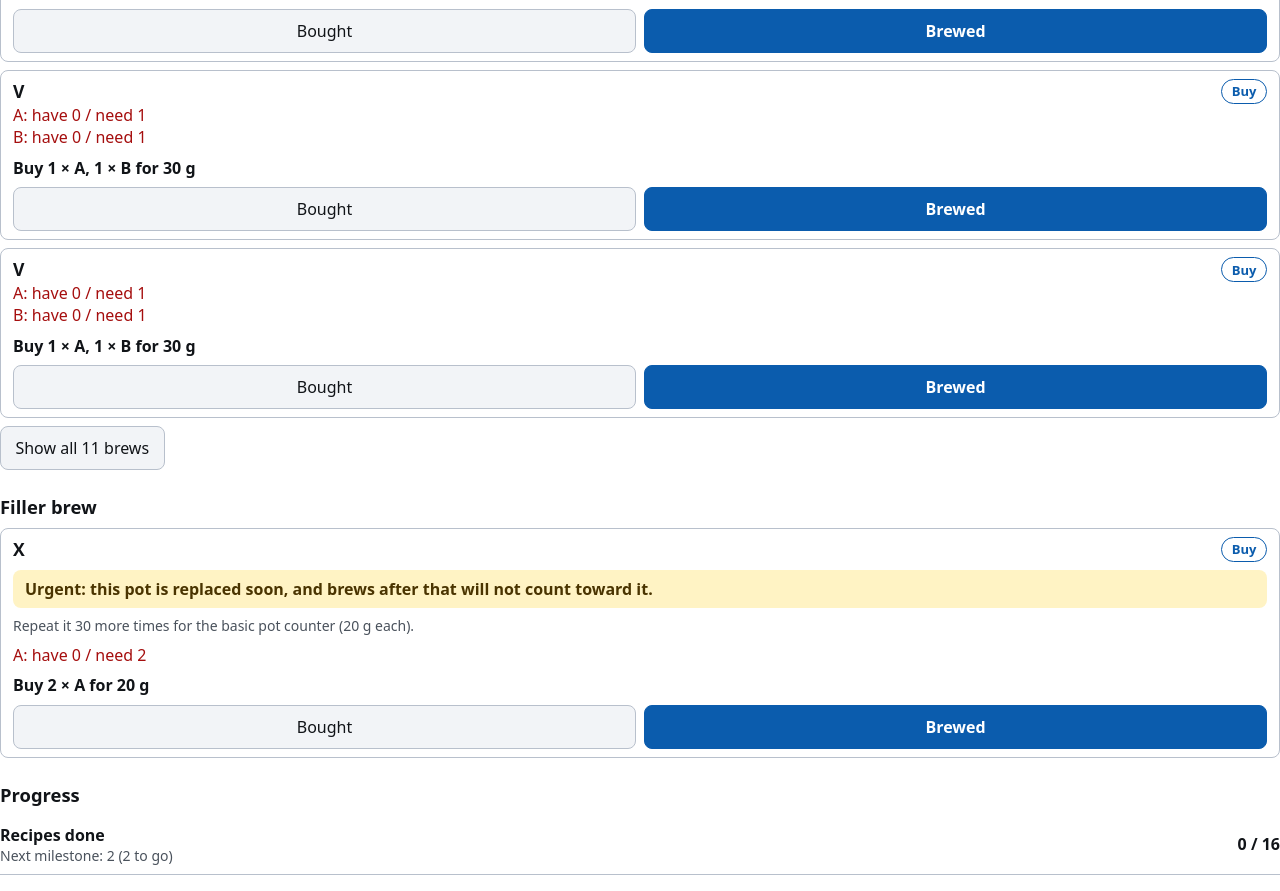
Next › shows the first few entries and the rest on request
(page scrolled)
Click the button "Show all 11 brews".
click(82, 448)  # box [0, 426, 164, 470]
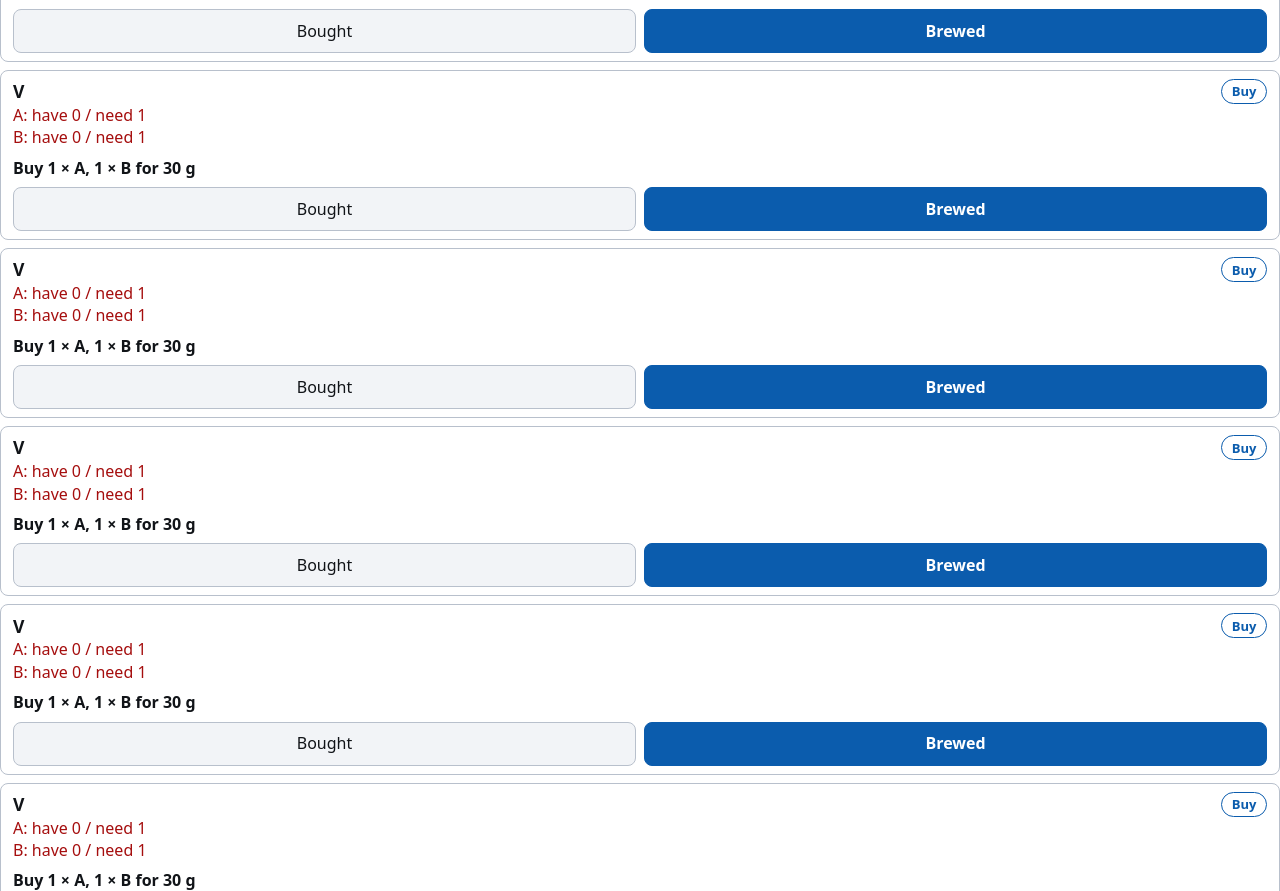
Result: the button "Show all" is gone
